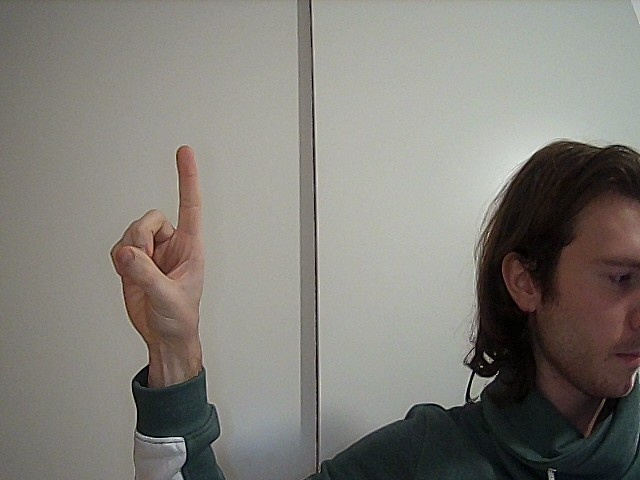d: (91, 145, 234, 352)
